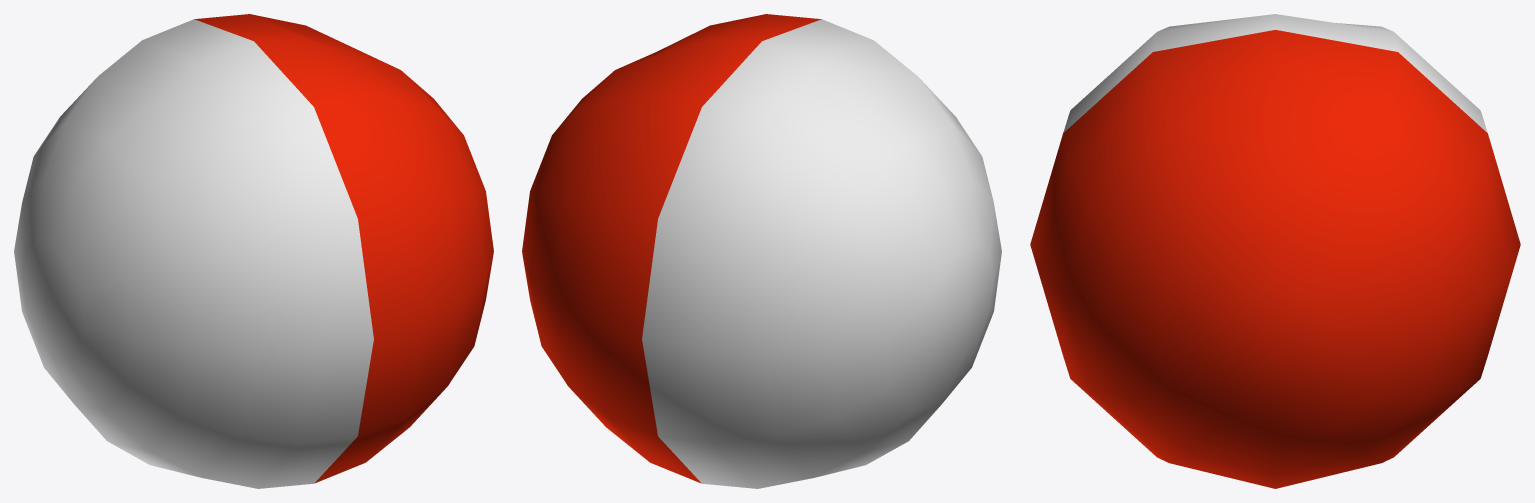
File: Dead_Pill.fbx
3 views of the same model, side by side, from view 1: azimuth 30°, elevation 25°; view 2: azimuth 150°, elevation 25°; view 3: azimuth 270°, elevation 25° (orthographic). The views are drawn at different scales.
Visible parts, largest first — view 1: Dead_Pill; view 2: Dead_Pill; view 3: Dead_Pill.
Boxes of the visible parts, <box> form: Dead_Pill: <box>14,14,493,488</box>; Dead_Pill: <box>522,14,1001,488</box>; Dead_Pill: <box>1030,14,1520,488</box>.
Size of the model in its own units: 84.63 by 83.2 by 84.63.
